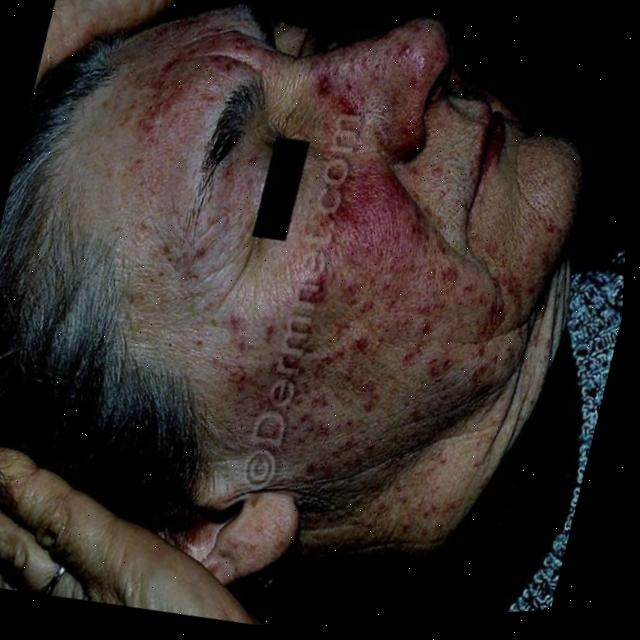Rosacea: (192, 0, 565, 491), (86, 3, 252, 187)
